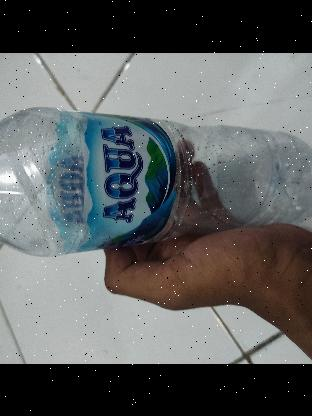Plastic Bottle: (0, 94, 312, 270)
